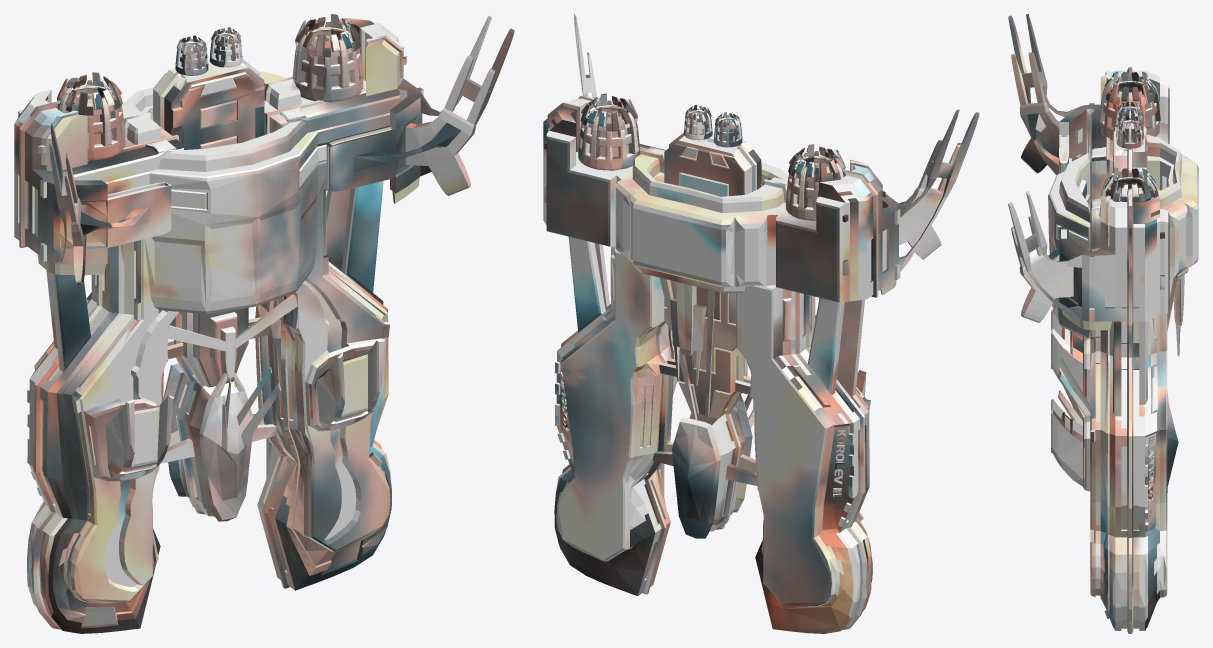
The model's file is korolev_star004(testmotor)(53483).fbx.
The picture shows the model from 3 angles, left to right: view 1: azimuth 30°, elevation 25°; view 2: azimuth 150°, elevation 25°; view 3: azimuth 270°, elevation 25°; orthographic projection. The views are drawn at different scales.
Parts seen in each view (by area): view 1: Layer 0; view 2: Layer 0; view 3: Layer 0.
Part boxes in pixels (x1=…): Layer 0: x1=14, y1=14, x2=514, y2=633; Layer 0: x1=543, y1=14, x2=979, y2=633; Layer 0: x1=1008, y1=14, x2=1198, y2=633.
Bounding box in the file's own units: 18.04 × 21.59 × 7.71.
